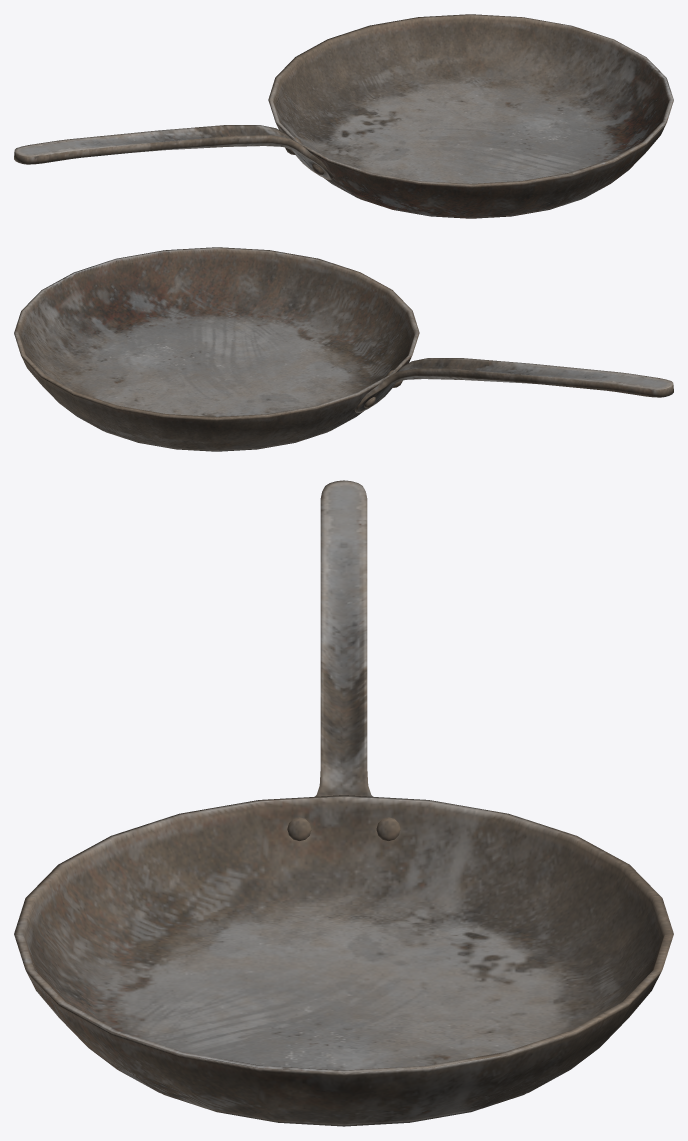
Rendered from SM_Kitchenware01_5_LOD0.glb.
3 renders of one model, top to bottom at view 1: azimuth 30°, elevation 25°; view 2: azimuth 150°, elevation 25°; view 3: azimuth 270°, elevation 25°, orthographic. The views are drawn at different scales.
Parts seen in each view (by area): view 1: SM_Kitchenware01_5_LOD0; view 2: SM_Kitchenware01_5_LOD0; view 3: SM_Kitchenware01_5_LOD0.
Part boxes in pixels (bbox=[...]): SM_Kitchenware01_5_LOD0: bbox=[14, 14, 673, 218]; SM_Kitchenware01_5_LOD0: bbox=[14, 247, 673, 451]; SM_Kitchenware01_5_LOD0: bbox=[14, 480, 673, 1126].
Size of the model in its own units: 0.6522 by 0.1087 by 0.3643.
Materials: 1 (1 with a texture image).
